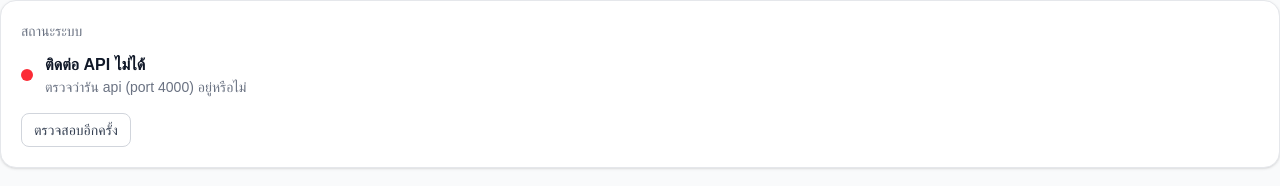
it: <ApiStatus /> › re-checks when the retry button is pressed
Check: the text "ติดต่อ API ไม่ได้" is shown, box [45, 56, 145, 73]
Step 1. Click the button "ตรวจสอบอีกครั้ง" → (76, 130), box [21, 113, 131, 147]
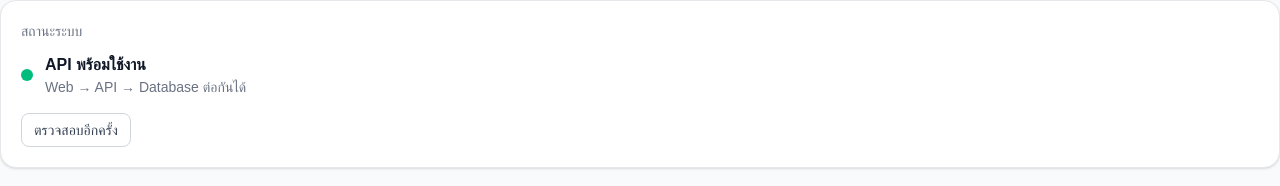
Check: the text "API พร้อมใช้งาน" is shown, box [45, 56, 146, 73]
